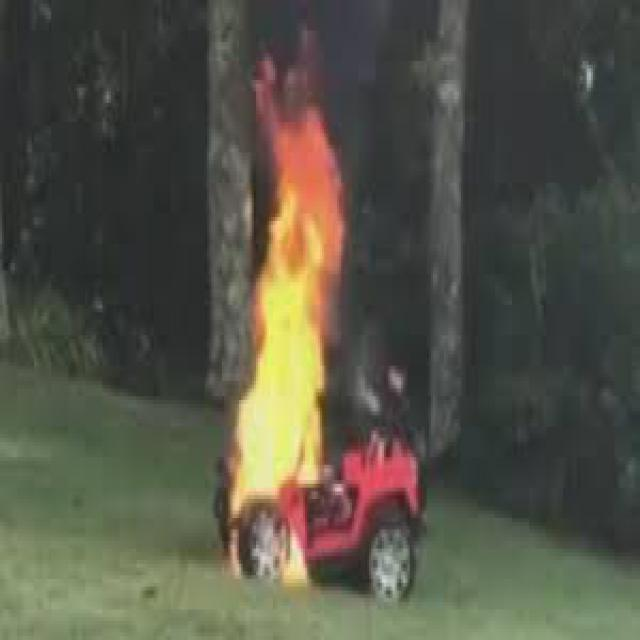fire: (213, 106, 346, 586)
